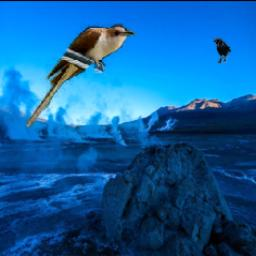Crow: (214, 37, 231, 63)
Cuckoo: (25, 25, 135, 129)
